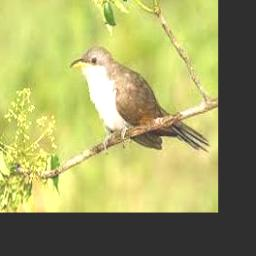Cuckoo: (70, 45, 210, 150)
